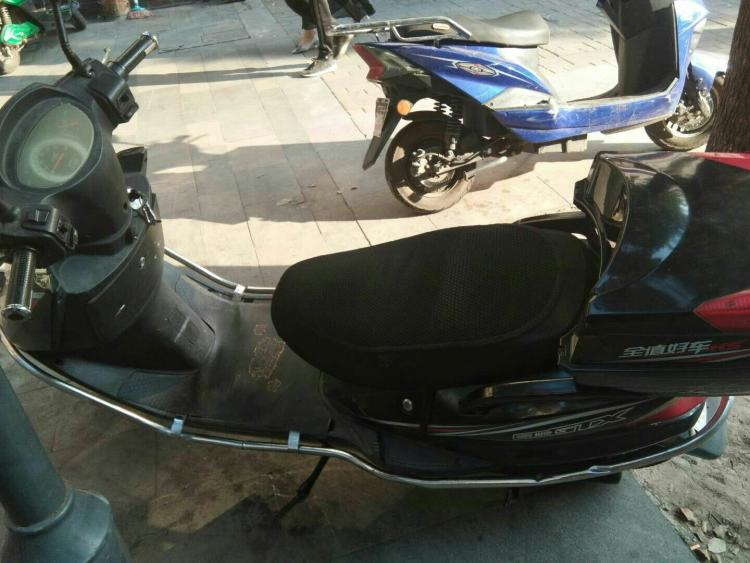电动车: (1, 29, 750, 516), (349, 5, 734, 211)
